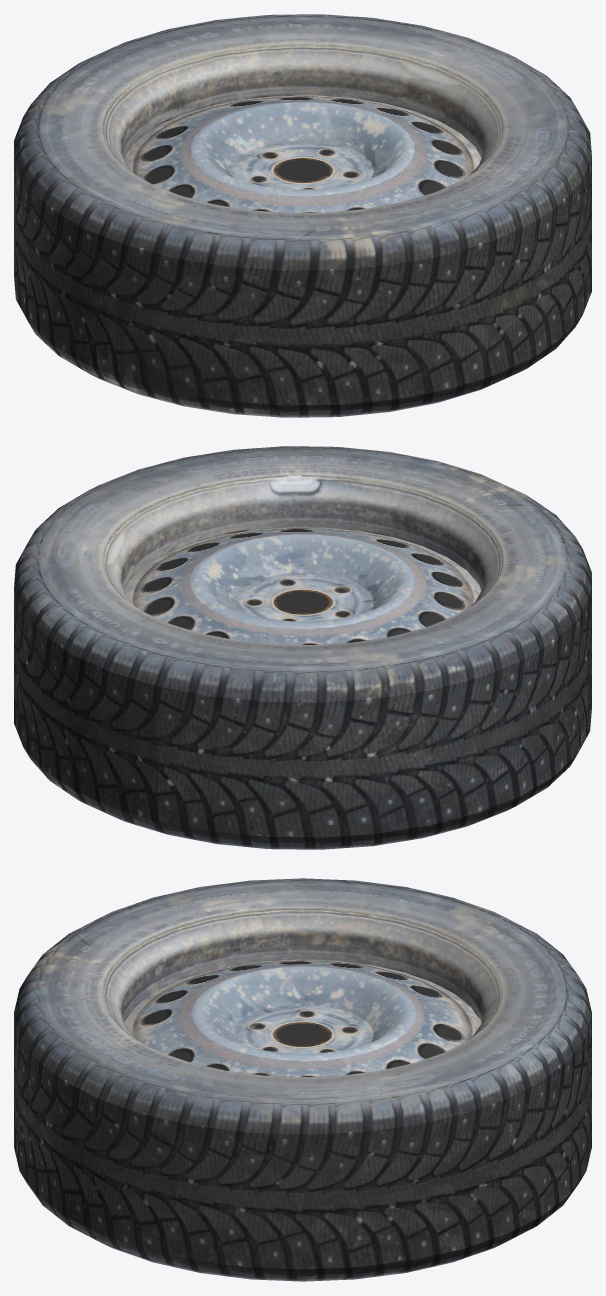
File: OldTyre.fbx
The picture shows the model from 3 angles, top to bottom: view 1: azimuth 30°, elevation 25°; view 2: azimuth 150°, elevation 25°; view 3: azimuth 270°, elevation 25°; orthographic projection.
Visible parts, largest first — view 1: OldTyre; view 2: OldTyre; view 3: OldTyre.
Part boxes in pixels (x1=…): OldTyre: x1=14, y1=14, x2=591, y2=417; OldTyre: x1=14, y1=446, x2=591, y2=849; OldTyre: x1=14, y1=878, x2=591, y2=1281.
Bounding box in the file's own units: 1.15 × 0.3851 × 1.15.
